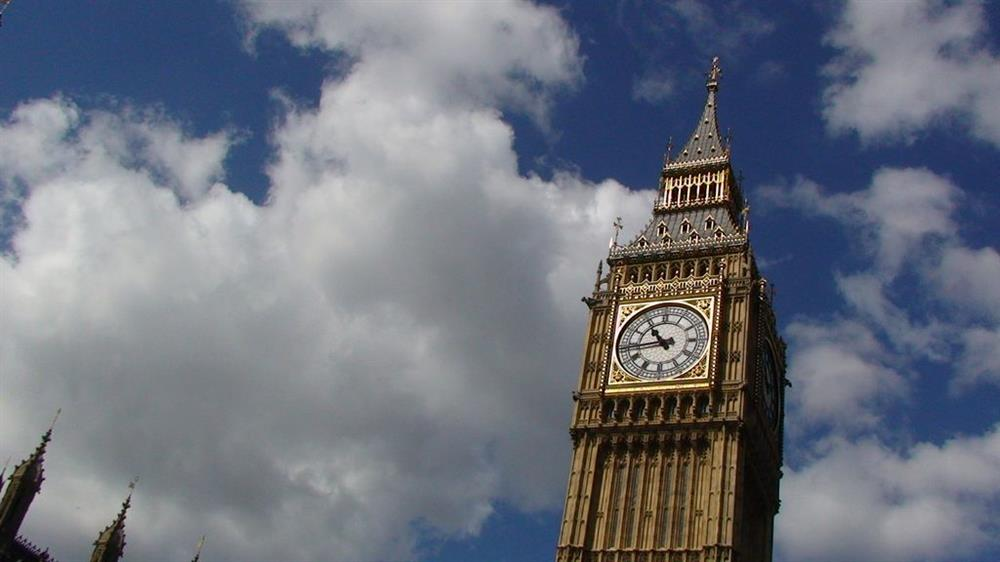Elizabeth_Tower: (553, 42, 779, 556)
